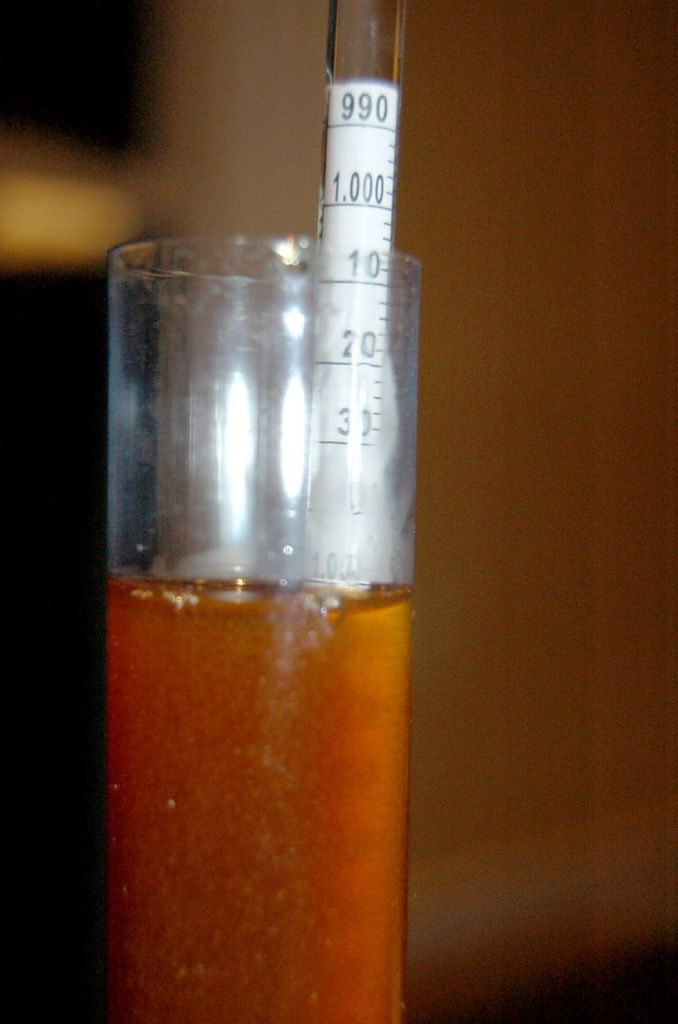Beer: (87, 218, 453, 1023)
